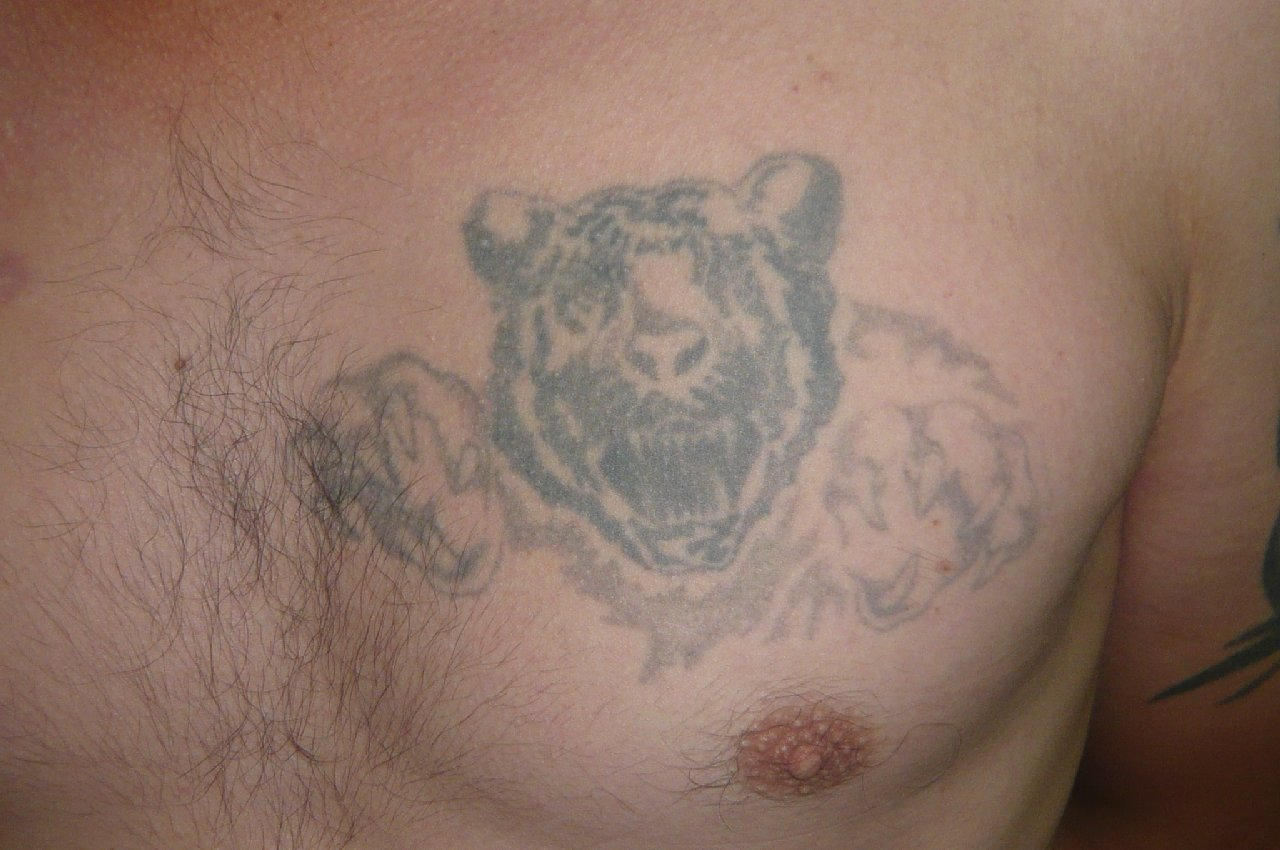tatu5_tigr: (289, 123, 1044, 685)
